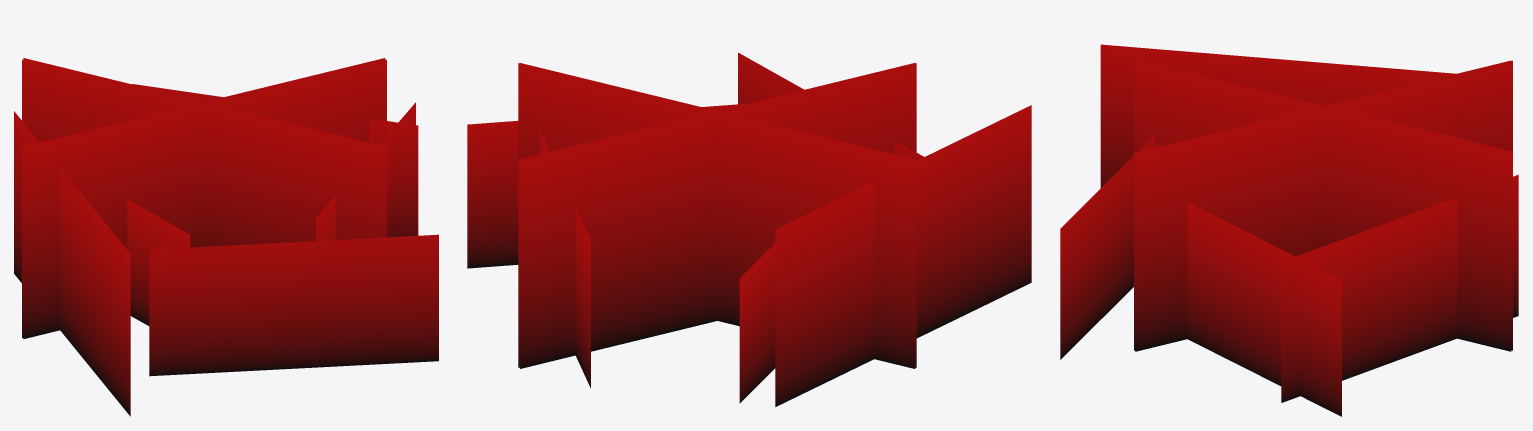
File: SM_Grass_02-3.fbx
3 views of the same model, side by side, from view 1: azimuth 30°, elevation 25°; view 2: azimuth 150°, elevation 25°; view 3: azimuth 270°, elevation 25° (orthographic). The views are drawn at different scales.
Visible parts, largest first — view 1: SM_Nature_Grass_02-3; view 2: SM_Nature_Grass_02-3; view 3: SM_Nature_Grass_02-3.
Part boxes in pixels (x1,y1,x2,y2): SM_Nature_Grass_02-3: (14,58,438,416); SM_Nature_Grass_02-3: (467,52,1031,406); SM_Nature_Grass_02-3: (1060,44,1518,416).
Bounding box in the file's own units: 35.79 × 16.33 × 34.03.
